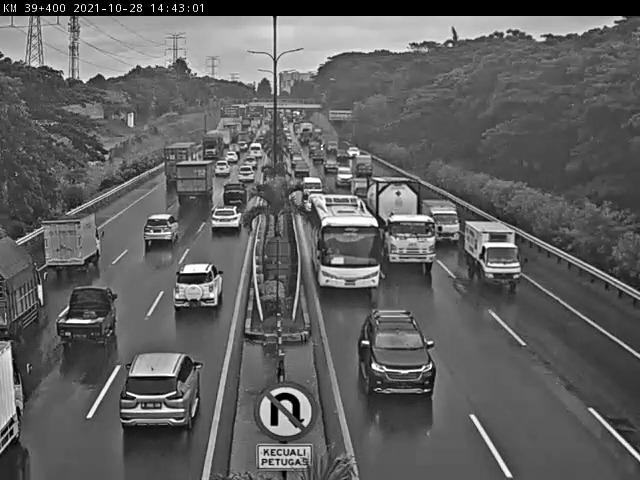big bus: (309, 194, 382, 294)
big truck: (365, 175, 444, 271), (178, 158, 218, 203), (167, 139, 201, 186)
car: (359, 309, 439, 402), (120, 354, 202, 433), (173, 263, 221, 311), (143, 215, 180, 248), (210, 205, 241, 231), (302, 176, 325, 203), (306, 190, 329, 215), (222, 181, 245, 204), (338, 167, 356, 190), (294, 161, 310, 178), (215, 161, 230, 178), (239, 166, 255, 181)
small truck: (462, 221, 527, 291), (41, 212, 105, 276), (58, 286, 119, 349), (420, 197, 459, 248)
